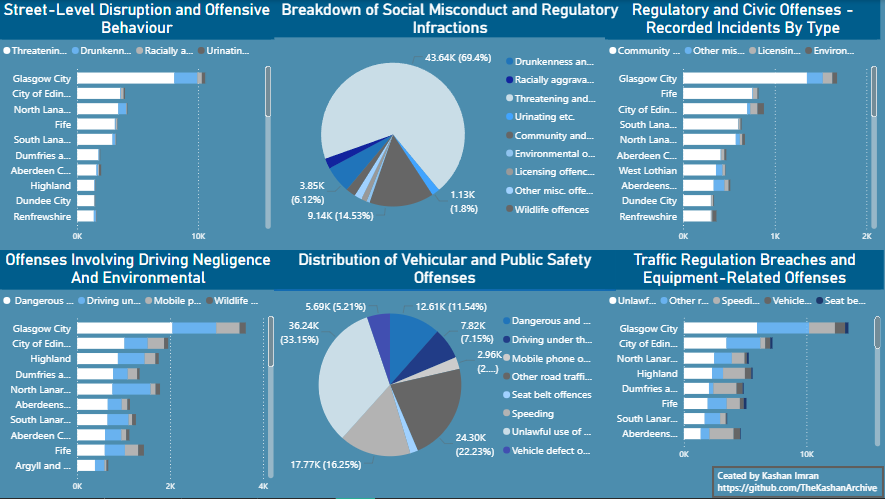

The dashboard page shown, as its layout file describes it:
{"tool":"powerbi","page":{"name":"Page 3","canvas":[1280,720],"ordinal":2},"visuals":[{"type":"barChart","title":"Street-Level Disruption and Offensive Behaviour","fields":{"Category":["Scotland Crime Report 2022-23, Cities Breakdown.Reference Area"],"Y":["Sum(Scotland Crime Report 2022-23, Cities Breakdown.Offences: Group 6: Threatening and abusive behaviour)","Sum(Scotland Crime Report 2022-23, Cities Breakdown.Offences: Group 6: Drunkenness and other disorderly conduct)","Sum(Scotland Crime Report 2022-23, Cities Breakdown.Offences: Group 6: Racially aggravated conduct)","Sum(Scotland Crime Report 2022-23, Cities Breakdown.Offences: Group 6: Urinating etc.)"]},"box":[0,0,398.1,359.5],"z":0},{"type":"barChart","title":"Regulatory and Civic Offenses - Recorded Incidents By Type ","fields":{"Category":["Scotland Crime Report 2022-23, Cities Breakdown.Reference Area"],"Y":["Sum(Scotland Crime Report 2022-23, Cities Breakdown.Offences: Group 7: Community and public order offences)","Sum(Scotland Crime Report 2022-23, Cities Breakdown.Offences: Group 7: Other misc. offences)","Sum(Scotland Crime Report 2022-23, Cities Breakdown.Offences: Group 7: Licensing offences)","Sum(Scotland Crime Report 2022-23, Cities Breakdown.Offences: Group 7: Environmental offences)"]},"box":[876.9,0,398.1,359.5],"z":1000},{"type":"barChart","title":"Offenses Involving Driving Negligence And Environmental","fields":{"Category":["Scotland Crime Report 2022-23, Cities Breakdown.Reference Area"],"Y":["Sum(Scotland Crime Report 2022-23, Cities Breakdown.Offences: Group 8: Dangerous and careless driving)","Sum(Scotland Crime Report 2022-23, Cities Breakdown.Offences: Group 8: Driving under the influence)","Sum(Scotland Crime Report 2022-23, Cities Breakdown.Offences: Group 8: Mobile phone offences)","Sum(Scotland Crime Report 2022-23, Cities Breakdown.Offences: Group 7: Wildlife offences)"]},"box":[0,361.4,401.9,358.6],"z":2000},{"type":"barChart","title":"Traffic Regulation Breaches and Equipment-Related Offenses","fields":{"Category":["Scotland Crime Report 2022-23, Cities Breakdown.Reference Area"],"Y":["Sum(Scotland Crime Report 2022-23, Cities Breakdown.Offences: Group 8: Unlawful use of vehicle)","Sum(Scotland Crime Report 2022-23, Cities Breakdown.Offences: Group 8: Other road traffic offences)","Sum(Scotland Crime Report 2022-23, Cities Breakdown.Offences: Group 8: Speeding)","Sum(Scotland Crime Report 2022-23, Cities Breakdown.Offences: Group 8: Vehicle defect offences)","Sum(Scotland Crime Report 2022-23, Cities Breakdown.Offences: Group 8: Seat belt offences)"]},"box":[876.9,361.2,403.1,312.4],"z":3000},{"type":"pieChart","fields":{"Y":["Sum(Scotland Crime Report 2022-23, Cities Breakdown.Offences: Group 6: Drunkenness and other disorderly conduct)","Sum(Scotland Crime Report 2022-23, Cities Breakdown.Offences: Group 6: Racially aggravated conduct)","Sum(Scotland Crime Report 2022-23, Cities Breakdown.Offences: Group 6: Threatening and abusive behaviour)","Sum(Scotland Crime Report 2022-23, Cities Breakdown.Offences: Group 6: Urinating etc.)","Sum(Scotland Crime Report 2022-23, Cities Breakdown.Offences: Group 7: Community and public order offences)","Sum(Scotland Crime Report 2022-23, Cities Breakdown.Offences: Group 7: Environmental offences)","Sum(Scotland Crime Report 2022-23, Cities Breakdown.Offences: Group 7: Licensing offences)","Sum(Scotland Crime Report 2022-23, Cities Breakdown.Offences: Group 7: Other misc. offences)","Sum(Scotland Crime Report 2022-23, Cities Breakdown.Offences: Group 7: Wildlife offences)"]},"box":[401.5,26.9,475.4,334.3],"z":4000},{"type":"pieChart","fields":{"Y":["Sum(Scotland Crime Report 2022-23, Cities Breakdown.Offences: Group 8: Dangerous and careless driving)","Sum(Scotland Crime Report 2022-23, Cities Breakdown.Offences: Group 8: Driving under the influence)","Sum(Scotland Crime Report 2022-23, Cities Breakdown.Offences: Group 8: Mobile phone offences)","Sum(Scotland Crime Report 2022-23, Cities Breakdown.Offences: Group 8: Other road traffic offences)","Sum(Scotland Crime Report 2022-23, Cities Breakdown.Offences: Group 8: Seat belt offences)","Sum(Scotland Crime Report 2022-23, Cities Breakdown.Offences: Group 8: Speeding)","Sum(Scotland Crime Report 2022-23, Cities Breakdown.Offences: Group 8: Unlawful use of vehicle)","Sum(Scotland Crime Report 2022-23, Cities Breakdown.Offences: Group 8: Vehicle defect offences)"]},"box":[398.1,391.4,475.4,329.2],"z":5000},{"type":"shape","title":"Breakdown of Social Misconduct and Regulatory Infractions","box":[398.1,0,509,53.8],"z":6000},{"type":"shape","title":"Distribution of Vehicular and Public Safety Offenses","box":[398.1,361.2,493.9,58.8],"z":7000},{"type":"textbox","box":[1033.1,673.6,246.9,47],"z":8000},{"type":"actionButton","box":[1030.8,673.7,248.7,46.3],"z":9000},{"type":"slicer","fields":{"Values":["Scotland Crime Report 2022-23, Cities Breakdown.Reference Area"]},"box":[0,707,13,13],"z":10000}]}

Visuals, with their boxes in screenshot pixels (x1, y1, x2, y2), scaled from the page's 1280x720 canvas onto the 885x499 screenshot:
"Street-Level Disruption and Offensive Behaviour" barChart: crop(0, 0, 275, 249)
"Regulatory and Civic Offenses - Recorded Incidents By Type " barChart: crop(606, 0, 882, 249)
"Offenses Involving Driving Negligence And Environmental" barChart: crop(0, 250, 278, 498)
"Traffic Regulation Breaches and Equipment-Related Offenses" barChart: crop(606, 250, 884, 467)
pieChart - Sum(Scotland Crime Report 2022-23, Cities Breakdown.Offences: Group 6: Drunkenness and other disorderly conduct) x Sum(Scotland Crime Report 2022-23, Cities Breakdown.Offences: Group 6: Racially aggravated conduct): crop(278, 19, 606, 250)
pieChart - Sum(Scotland Crime Report 2022-23, Cities Breakdown.Offences: Group 8: Dangerous and careless driving) x Sum(Scotland Crime Report 2022-23, Cities Breakdown.Offences: Group 8: Driving under the influence): crop(275, 271, 604, 498)
"Breakdown of Social Misconduct and Regulatory Infractions" shape: crop(275, 0, 627, 37)
"Distribution of Vehicular and Public Safety Offenses" shape: crop(275, 250, 617, 291)
textbox: crop(714, 467, 884, 498)
actionButton: crop(713, 467, 884, 498)
slicer - Scotland Crime Report 2022-23, Cities Breakdown.Reference Area: crop(0, 490, 9, 498)
